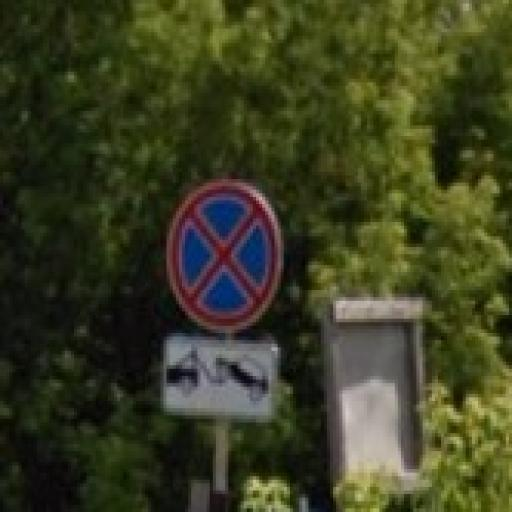traffic_sign: (171, 180, 282, 334)
